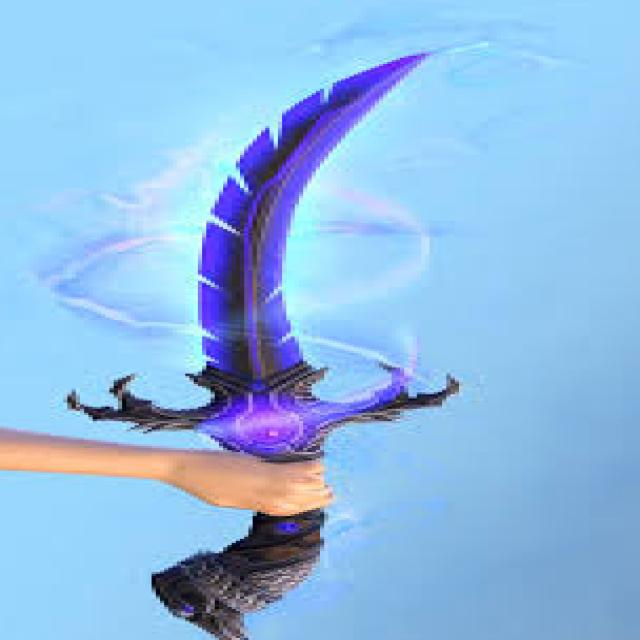Gun: (59, 41, 573, 640)
